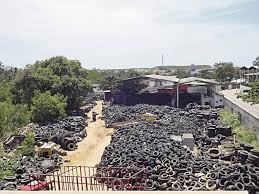tire: (207, 147, 222, 157), (235, 181, 245, 191), (240, 176, 251, 185), (67, 142, 76, 151), (145, 181, 155, 189), (216, 134, 222, 142)
